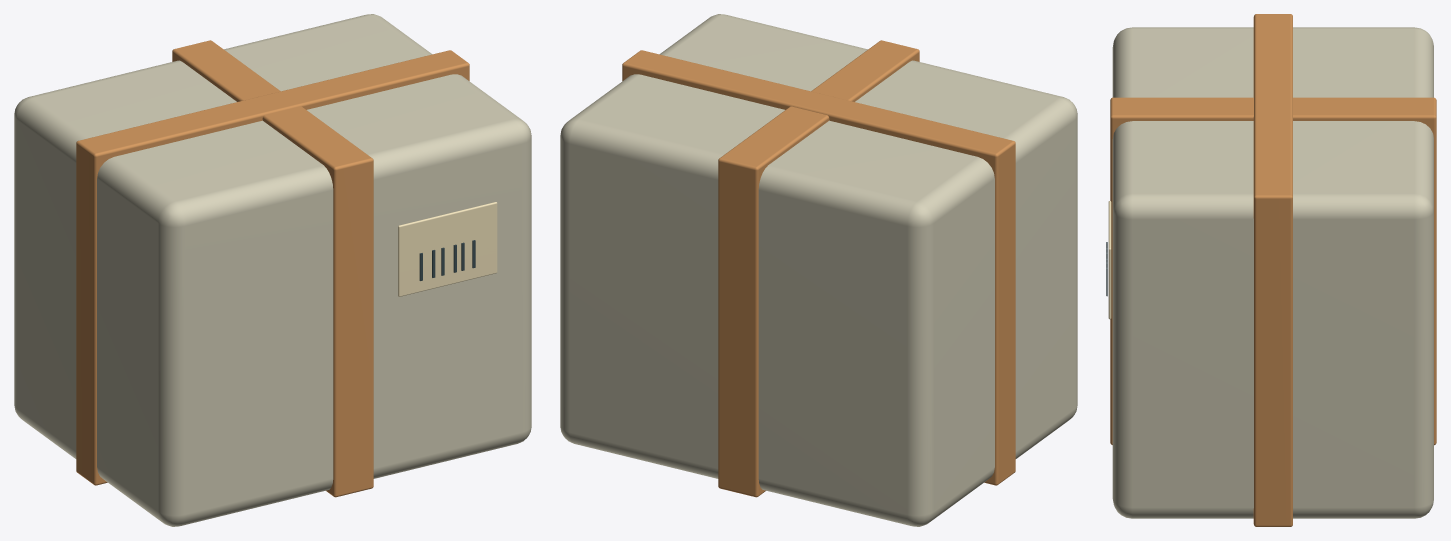
File: parcel.glb
The picture shows the model from 3 angles, left to right: view 1: azimuth 30°, elevation 25°; view 2: azimuth 150°, elevation 25°; view 3: azimuth 270°, elevation 25°; orthographic projection.
Visible parts, largest first — view 1: Warm cotton, Apricot glove, Cotton stitching, Charcoal rubber; view 2: Warm cotton, Apricot glove; view 3: Warm cotton, Apricot glove, Cotton stitching.
Boxes of the visible parts, x1,y1,x2,y2 form: Warm cotton: [14, 14, 531, 526]; Apricot glove: [76, 40, 469, 497]; Cotton stitching: [398, 202, 497, 296]; Charcoal rubber: [419, 240, 475, 280]; Warm cotton: [560, 14, 1077, 526]; Apricot glove: [622, 40, 1015, 497]; Warm cotton: [1112, 27, 1433, 518]; Apricot glove: [1110, 14, 1436, 526]; Cotton stitching: [1108, 201, 1111, 319].
Bounding box in the file's own units: 1.22 × 1.03 × 0.925.
